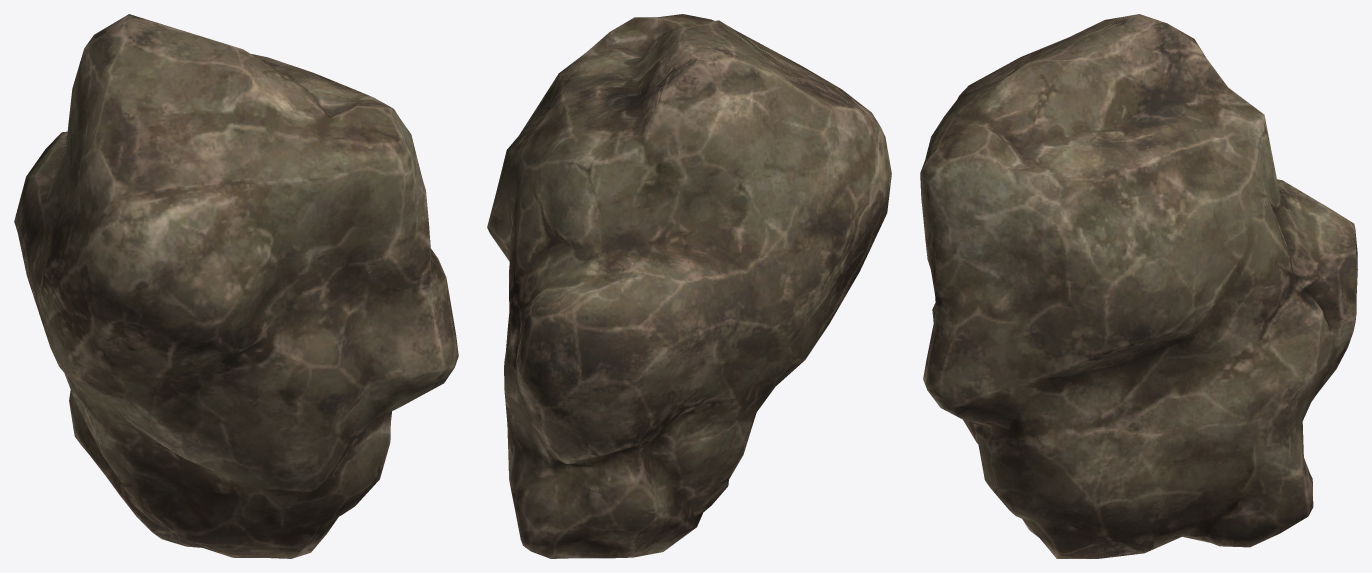
File: Rock6.fbx
3 renders of one model, left to right at view 1: azimuth 30°, elevation 25°; view 2: azimuth 150°, elevation 25°; view 3: azimuth 270°, elevation 25°, orthographic. The views are drawn at different scales.
Visible parts, largest first — view 1: SM_cmn_mount_Rock_02a; view 2: SM_cmn_mount_Rock_02a; view 3: SM_cmn_mount_Rock_02a.
Part boxes in pixels (<box>): SM_cmn_mount_Rock_02a: <box>14,14,458,558</box>; SM_cmn_mount_Rock_02a: <box>487,14,891,558</box>; SM_cmn_mount_Rock_02a: <box>920,14,1357,558</box>.
Size of the model in its own units: 196 by 283 by 228.
